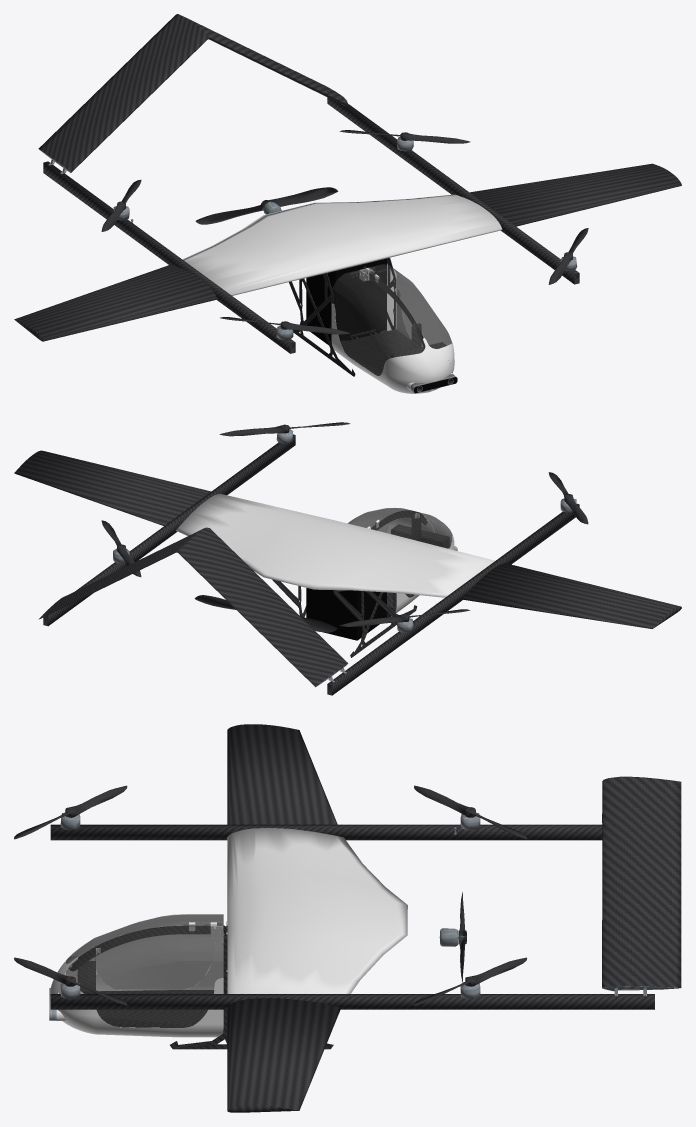
3 views of the same model, one above another, from view 1: azimuth 30°, elevation 25°; view 2: azimuth 150°, elevation 25°; view 3: azimuth 270°, elevation 25° (orthographic). The views are drawn at different scales.
Visible parts, largest first — view 1: Apogee Consolidated v40.091, Apogee Consolidated v40.109, Apogee Consolidated v40.002, window, sys-bay blocked, Apogee Consolidated v40.073, Apogee Consolidated v40.084, Apogee Consolidated v40.008, Apogee Consolidated v40.085, Apogee Consolidated v40.090, Apogee Consolidated v40.103, Apogee Consolidated v40.016 (+3 smaller); view 2: Apogee Consolidated v40.091, Apogee Consolidated v40.109, Apogee Consolidated v40.002, Apogee Consolidated v40.073, Apogee Consolidated v40.008, sys-bay blocked, window, Apogee Consolidated v40.090, Apogee Consolidated v40.084, Apogee Consolidated v40.085, Apogee Consolidated v40.016, Apogee Consolidated v40.026 (+3 smaller); view 3: Apogee Consolidated v40.091, Apogee Consolidated v40.109, Apogee Consolidated v40.002, window, Apogee Consolidated v40.008, Apogee Consolidated v40.073, Apogee Consolidated v40.084, Apogee Consolidated v40.085, Apogee Consolidated v40.016, Apogee Consolidated v40.094, Apogee Consolidated v40.024, Apogee Consolidated v40.089 (+4 smaller).
Part boxes in pixels (<box>): Apogee Consolidated v40.091: <box>182,194,502,295</box>; Apogee Consolidated v40.109: <box>14,163,681,341</box>; Apogee Consolidated v40.002: <box>38,14,347,172</box>; window: <box>332,264,452,375</box>; sys-bay blocked: <box>306,258,386,345</box>; Apogee Consolidated v40.073: <box>43,161,295,353</box>; Apogee Consolidated v40.084: <box>331,268,454,393</box>; Apogee Consolidated v40.008: <box>327,97,579,337</box>; Apogee Consolidated v40.085: <box>342,329,446,375</box>; Apogee Consolidated v40.090: <box>289,273,355,376</box>; Apogee Consolidated v40.103: <box>195,187,338,224</box>; Apogee Consolidated v40.016: <box>113,137,577,340</box>; Apogee Consolidated v40.091: <box>176,493,495,597</box>; Apogee Consolidated v40.109: <box>14,450,681,628</box>; Apogee Consolidated v40.002: <box>39,527,347,686</box>; Apogee Consolidated v40.073: <box>327,503,579,695</box>; Apogee Consolidated v40.008: <box>43,434,295,626</box>; sys-bay blocked: <box>306,588,386,640</box>; window: <box>348,508,452,597</box>; Apogee Consolidated v40.090: <box>333,590,417,657</box>; Apogee Consolidated v40.084: <box>367,513,454,616</box>; Apogee Consolidated v40.085: <box>387,524,449,617</box>; Apogee Consolidated v40.016: <box>113,429,576,632</box>; Apogee Consolidated v40.026: <box>219,422,350,436</box>; Apogee Consolidated v40.091: <box>227,828,407,993</box>; Apogee Consolidated v40.109: <box>227,724,341,1112</box>; Apogee Consolidated v40.002: <box>602,776,681,990</box>; window: <box>65,914,223,1027</box>; Apogee Consolidated v40.008: <box>50,921,654,1009</box>; Apogee Consolidated v40.073: <box>50,824,602,840</box>; Apogee Consolidated v40.084: <box>49,922,223,1037</box>; Apogee Consolidated v40.085: <box>77,961,214,1027</box>; Apogee Consolidated v40.016: <box>60,812,480,999</box>; Apogee Consolidated v40.094: <box>69,925,225,971</box>; Apogee Consolidated v40.024: <box>14,785,127,839</box>; Apogee Consolidated v40.089: <box>170,963,333,1049</box>.
Size of the model in its own units: 25 by 7.75 by 18.53.
Materials: 12 (8 with a texture image).
